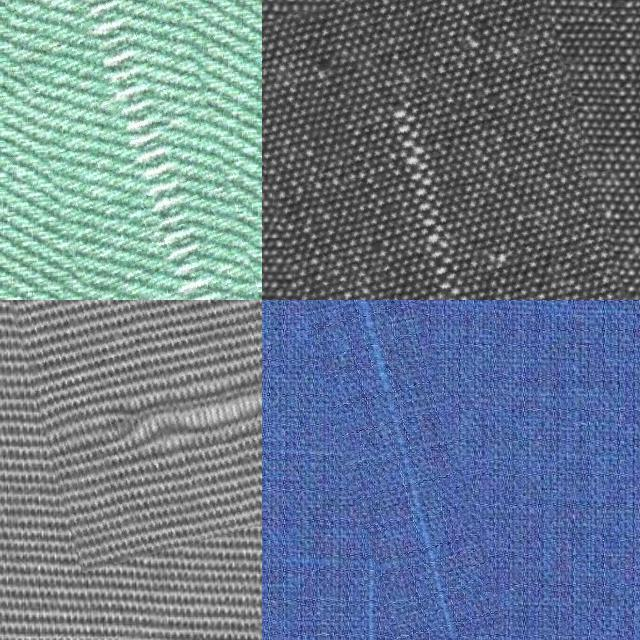Thread_other: (262, 0, 628, 300), (272, 300, 465, 640), (21, 300, 262, 545)
